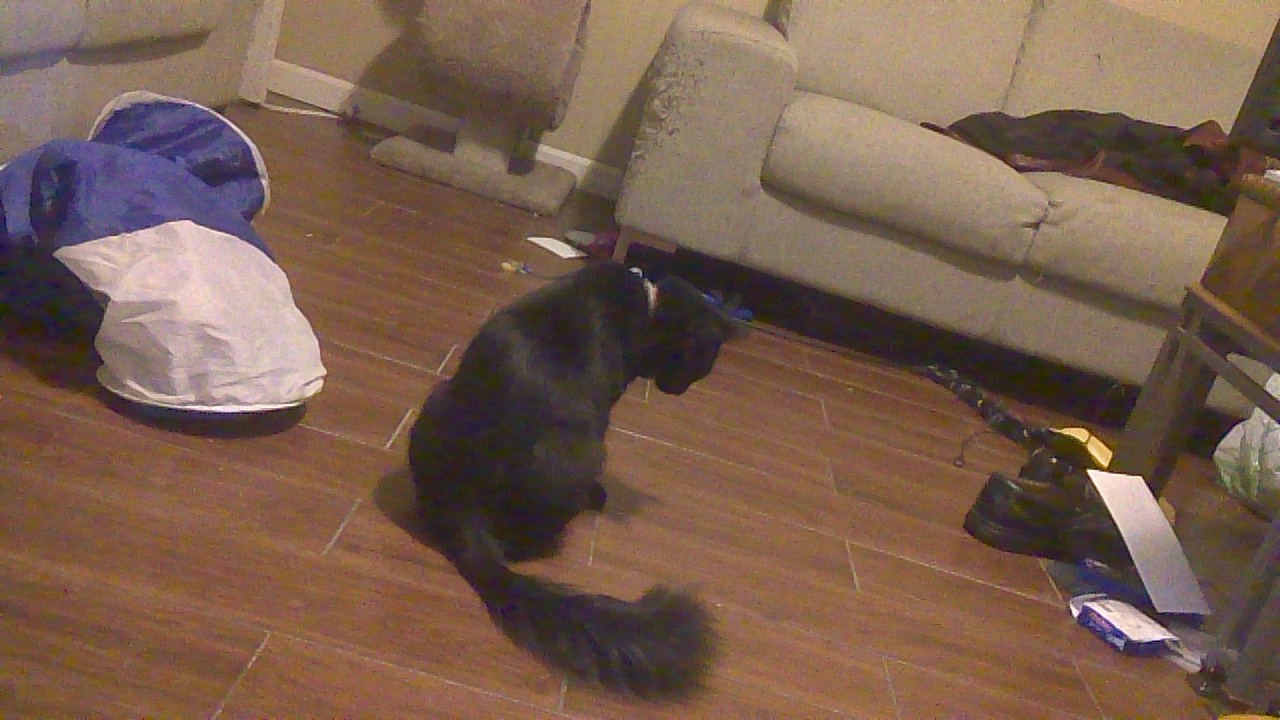cat: (405, 250, 752, 695)
